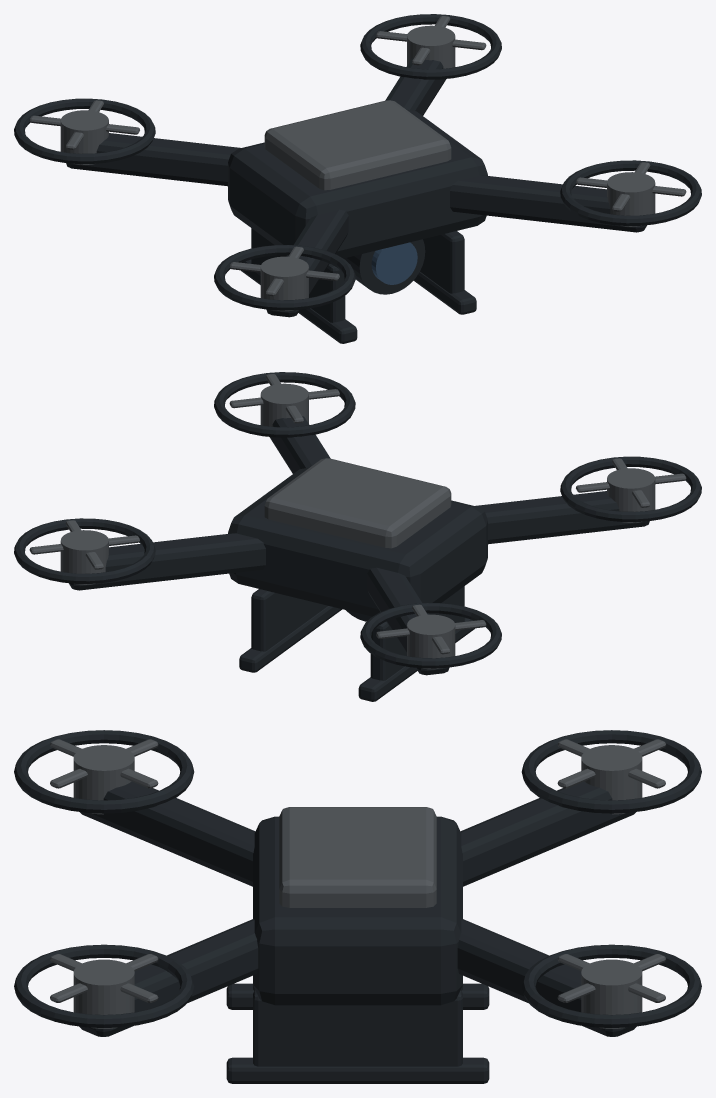
Rendered from SM_DLS_TargetQuadDrone.fbx.
3 renders of one model, top to bottom at view 1: azimuth 30°, elevation 25°; view 2: azimuth 150°, elevation 25°; view 3: azimuth 270°, elevation 25°, orthographic. The views are drawn at different scales.
Visible parts, largest first — view 1: Drone_Core, Drone_Top, Arm_2, Arm_1, Guard_1, Guard_2, Guard_3, Guard_0, Arm_0, LandingLeg_1, Motor_0, Motor_2 (+12 smaller); view 2: Drone_Core, Drone_Top, Arm_3, Arm_0, Guard_0, Guard_3, Guard_2, Guard_1, LandingLeg_1, Arm_1, Motor_1, Motor_3 (+10 smaller); view 3: Drone_Core, Drone_Top, LandingLeg_1, Arm_0, Arm_1, Arm_2, Arm_3, LandingFoot_1, Guard_0, Guard_1, Guard_2, Guard_3 (+13 smaller).
Part boxes in pixels (box(x1,y1,x2,y2)): Drone_Core: box(228, 109, 487, 258); Drone_Top: box(264, 100, 451, 190); Arm_2: box(450, 175, 646, 232); Arm_1: box(66, 133, 240, 186); Guard_1: box(14, 98, 155, 164); Guard_2: box(560, 160, 701, 225); Guard_3: box(360, 14, 501, 79); Guard_0: box(214, 245, 355, 310); Arm_0: box(266, 209, 348, 317); LandingLeg_1: box(420, 231, 464, 293); Motor_0: box(260, 256, 308, 311); Motor_2: box(607, 172, 655, 226); Drone_Core: box(228, 467, 487, 616); Drone_Top: box(264, 458, 451, 548); Arm_3: box(69, 533, 265, 590); Arm_0: box(475, 491, 649, 544); Guard_0: box(560, 456, 701, 522); Guard_3: box(14, 518, 155, 583); Guard_2: box(214, 372, 355, 437); Guard_1: box(360, 603, 501, 668); LandingLeg_1: box(251, 589, 327, 651); Arm_1: box(367, 567, 449, 675); Motor_1: box(407, 614, 455, 669); Motor_3: box(60, 530, 108, 584); Drone_Core: box(253, 816, 462, 1005); Drone_Top: box(279, 807, 436, 907); LandingLeg_1: box(253, 990, 462, 1066); Arm_0: box(80, 781, 255, 886); Arm_1: box(460, 781, 635, 886); Arm_2: box(79, 919, 258, 1036); Arm_3: box(457, 919, 636, 1036); LandingFoot_1: box(226, 1057, 489, 1083); Guard_0: box(14, 730, 194, 813); Guard_1: box(521, 730, 701, 813); Guard_2: box(14, 944, 194, 1027); Guard_3: box(521, 944, 701, 1027).
Bounding box in the file's own units: 78.6 × 25.2 × 78.6.
